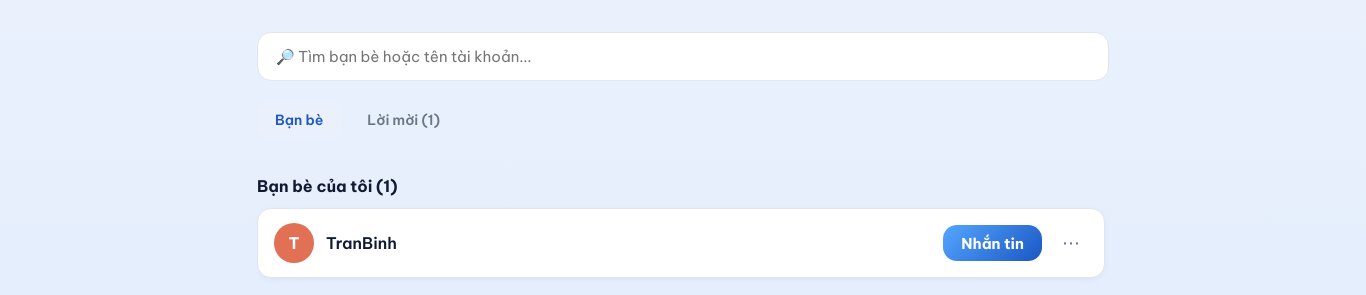
TrangBanBe › go tu khoa tim kiem chi hien Ket qua tim kiem, an ca 2 tab
The width and height of the screenshot is (1366, 295).
Expected: the text "TranBinh" is shown, [326,233,397,253]
In the field with placeholder "🔎 Tìm bạn bè hoặc tên tài khoản...": (683, 56) [257,32,1109,81], type "Pham"
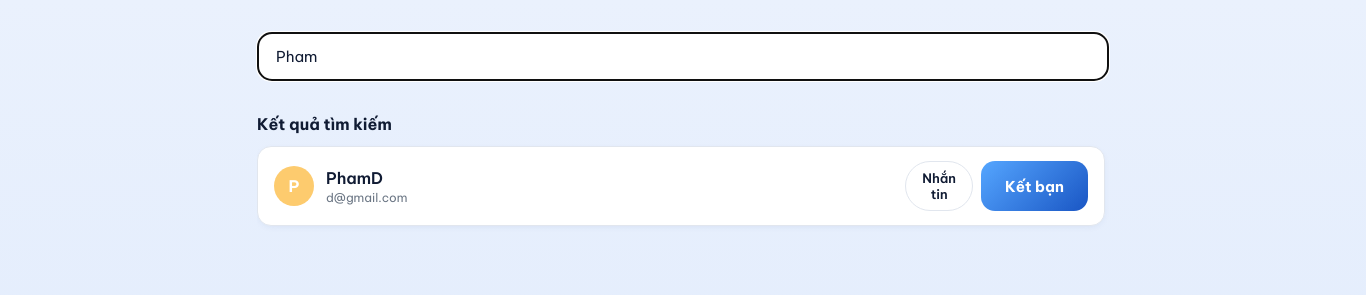
Now the heading "Kết quả tìm kiếm" is shown, box [257,114,392,134]
Now the text "PhamD" is shown, box [326,168,383,188]
Now the button "Lời mời" is gone
